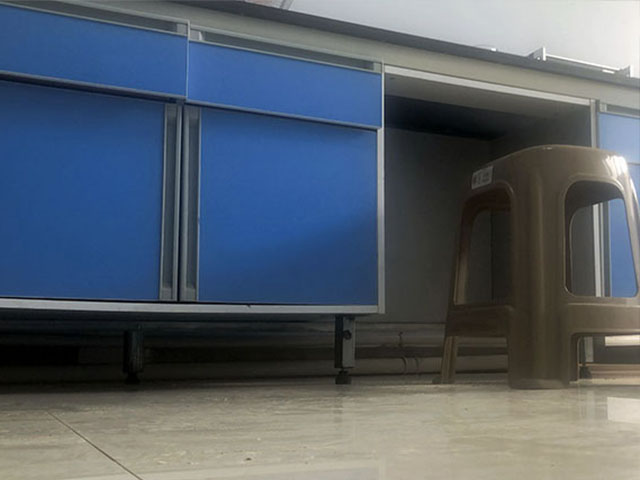cabinet: (1, 1, 406, 392)
stool: (430, 141, 640, 388)
